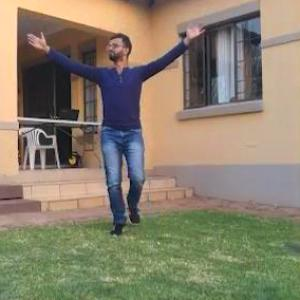takeoff: (25, 13, 220, 225)
